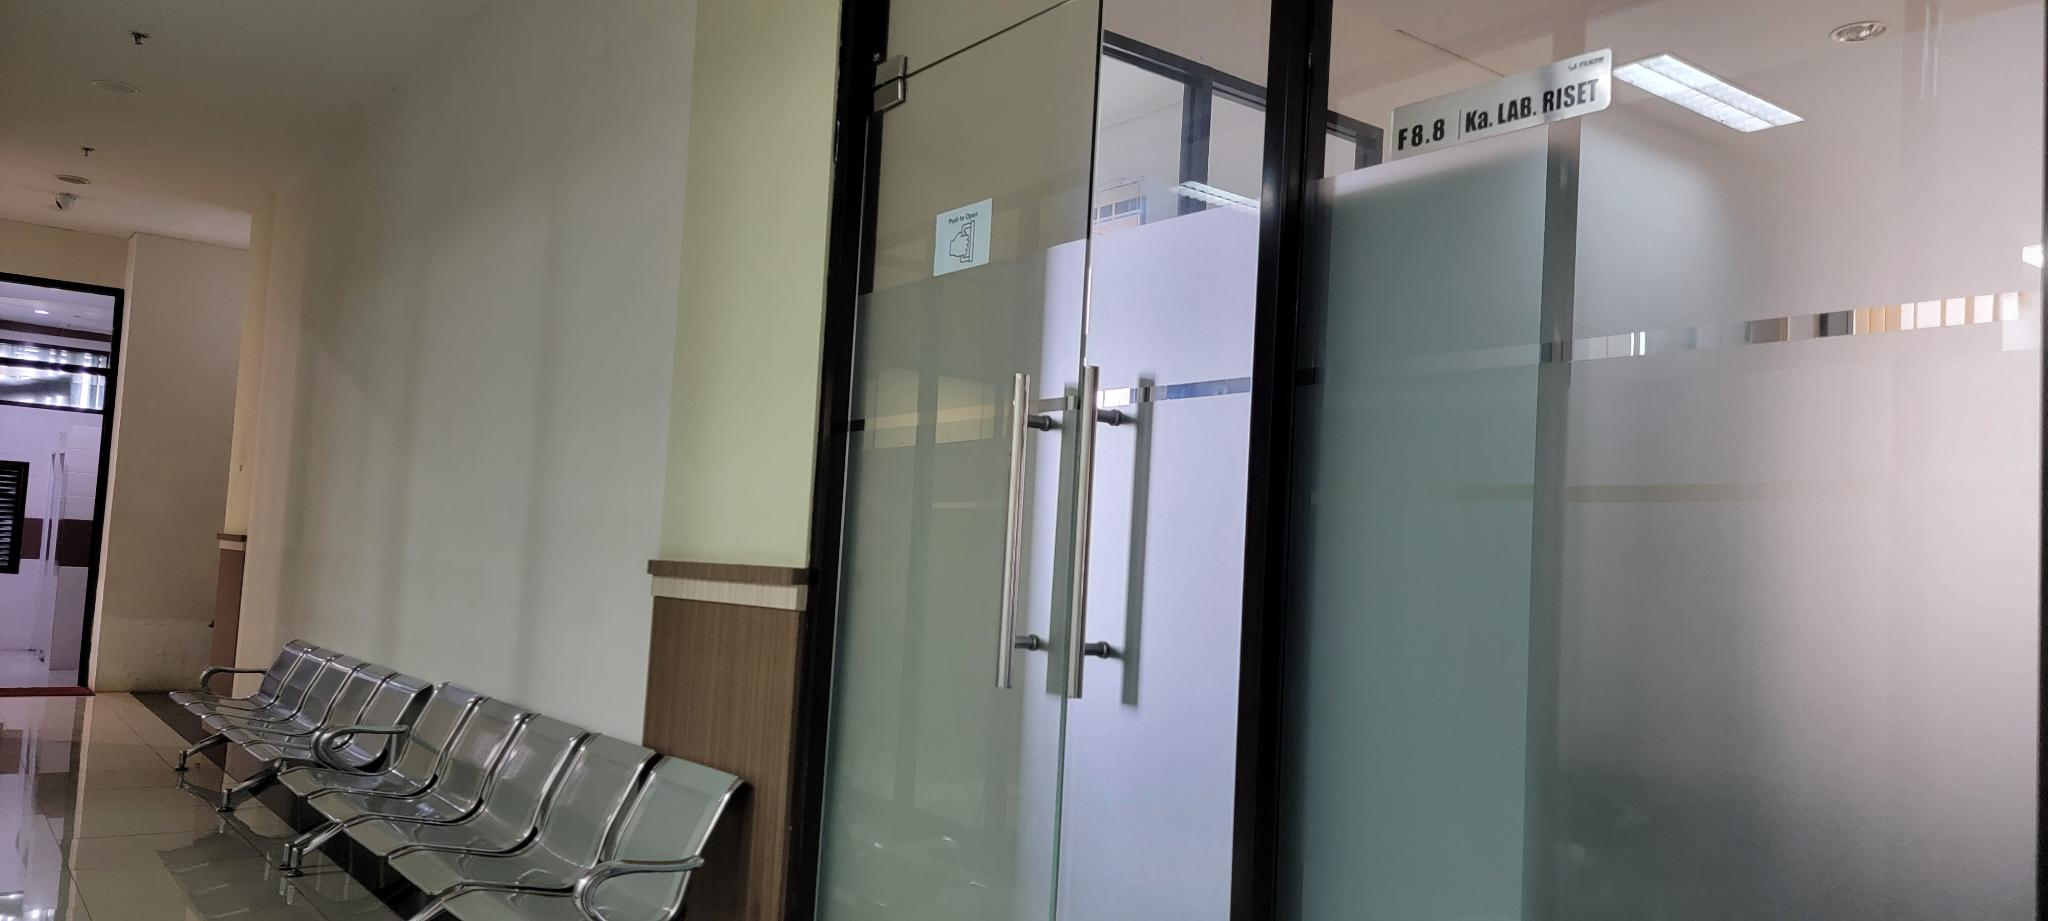plate: (1391, 48, 1618, 161)
